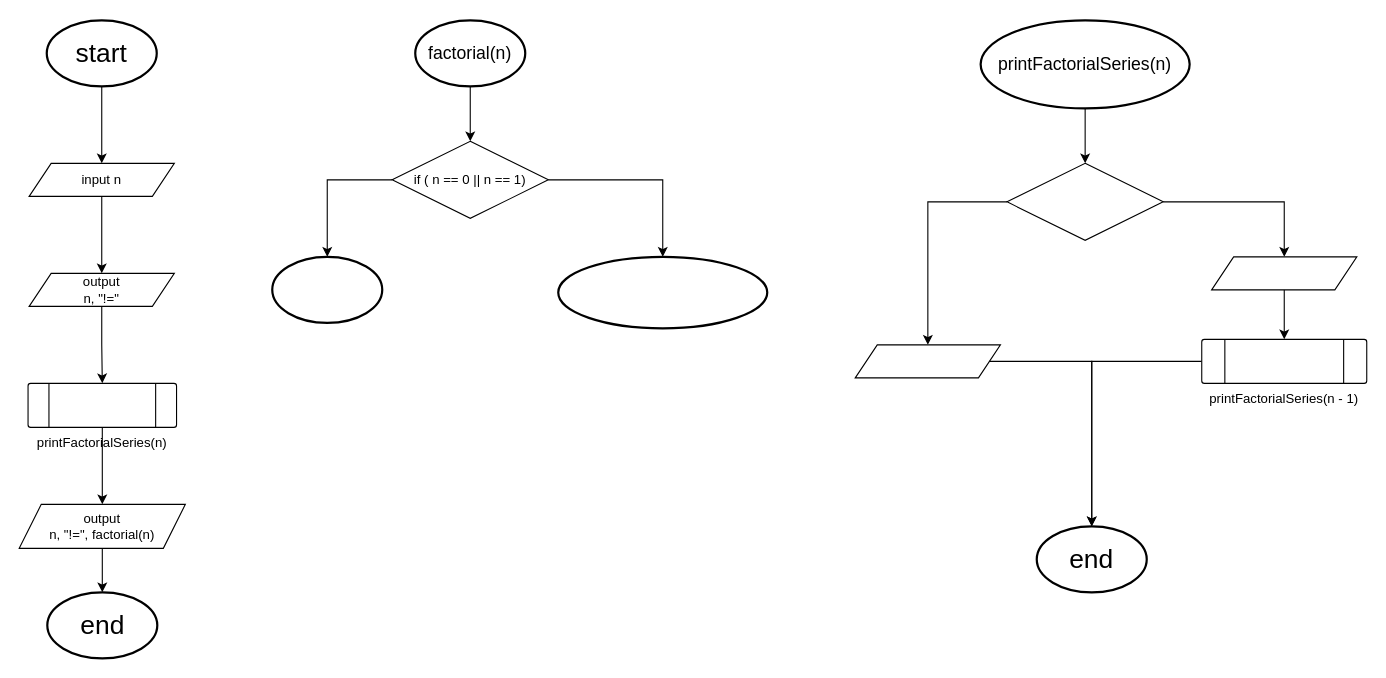
Some shapes in this 1386 by 678 pixel diagram are drawn without their labels. The shapes that lost their labels are listed below. From the top down, each one's box as (x1, y1, x2, y2) in pixels, then its label:
(1006, 162, 1163, 240): if (n > 1)
(271, 255, 383, 323): return 1
(557, 255, 768, 329): return n * factorial( n - 1)
(1211, 256, 1357, 290): output n
(854, 344, 1000, 378): output 1
